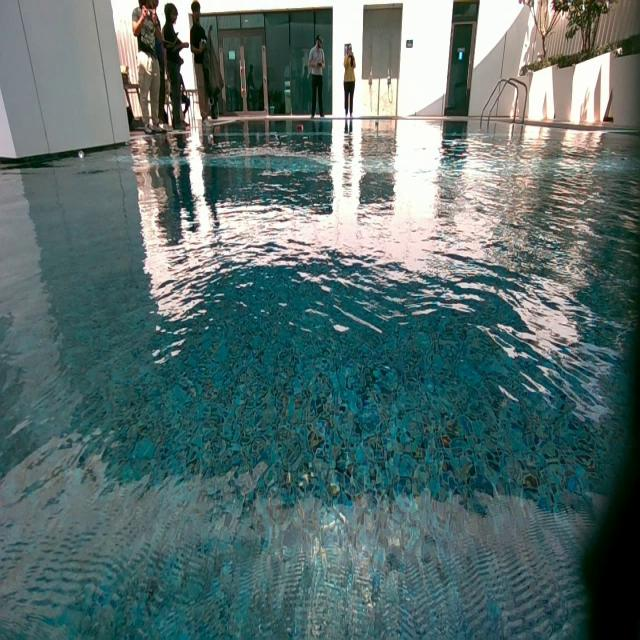Cans: (295, 125, 303, 134), (207, 132, 214, 142), (270, 130, 278, 138), (78, 151, 85, 159), (215, 125, 220, 133), (256, 132, 260, 138)
